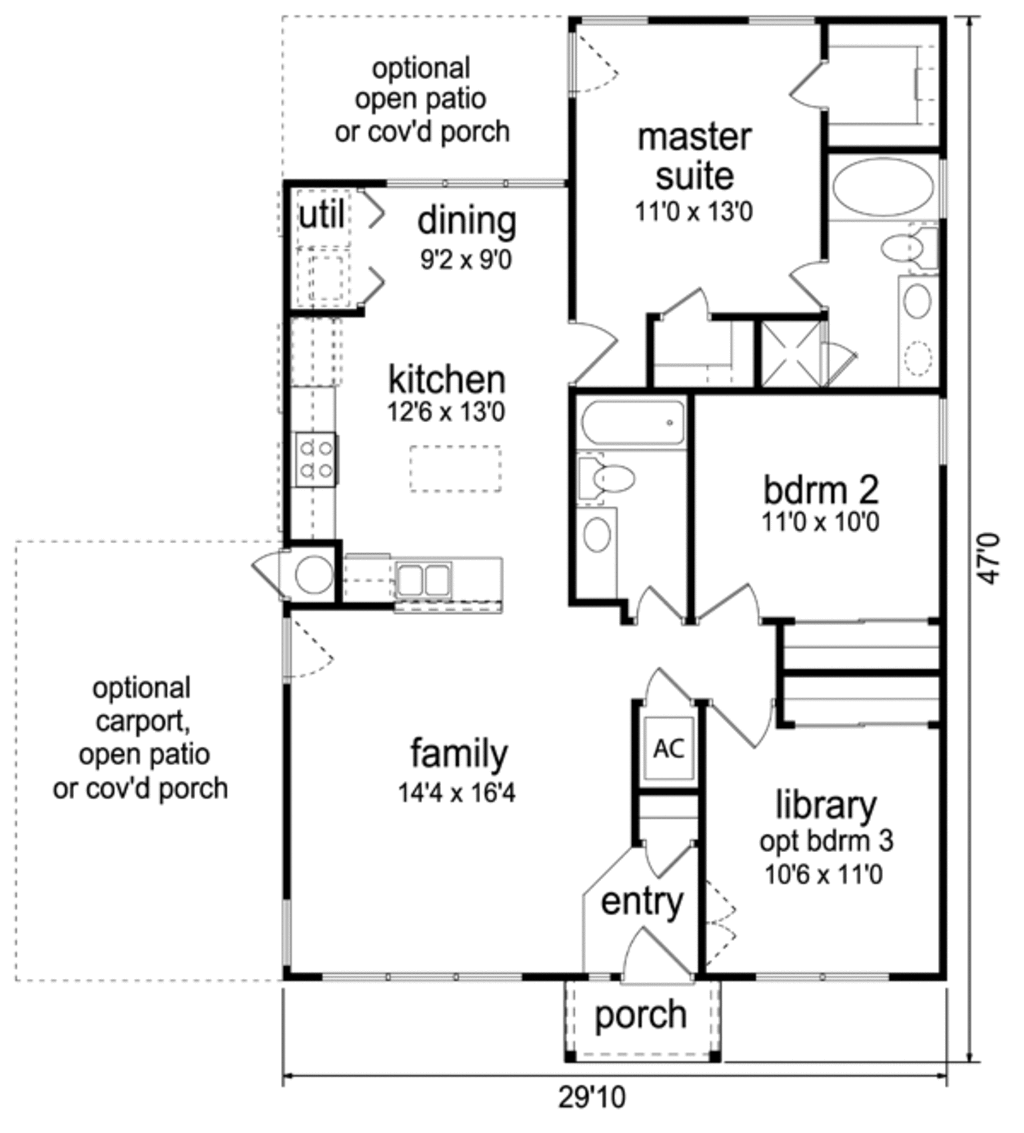door: (557, 317, 627, 392), (283, 611, 350, 686), (698, 692, 779, 754), (619, 923, 702, 983), (693, 583, 776, 638), (564, 28, 624, 102), (696, 881, 746, 966), (786, 52, 845, 114), (648, 274, 722, 323), (636, 664, 703, 716), (243, 540, 291, 605), (786, 257, 838, 317), (638, 833, 700, 883), (629, 583, 688, 631), (824, 340, 862, 385)
large_sink: (571, 452, 650, 502), (879, 226, 946, 273)
small_sink: (574, 504, 629, 607), (895, 278, 945, 385)
tub: (822, 143, 957, 212), (576, 385, 695, 447)
twin_sink: (388, 559, 477, 612)
window: (752, 962, 903, 992), (931, 383, 957, 481), (738, 11, 814, 36), (574, 4, 645, 26)
